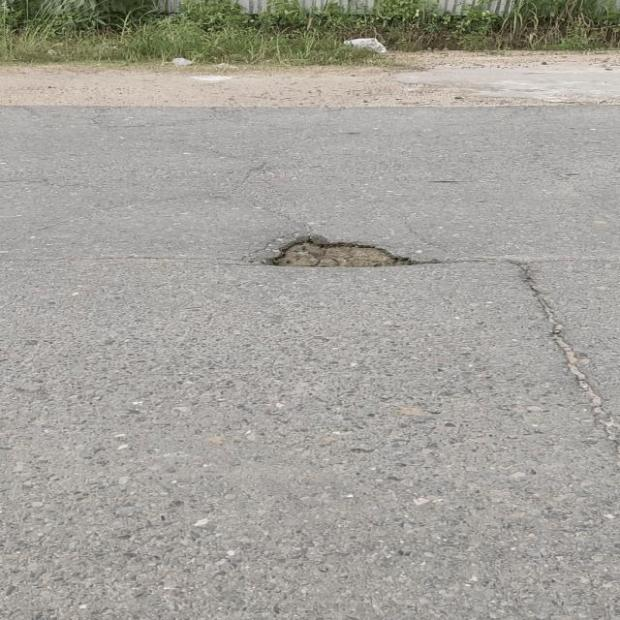lubang: (266, 234, 438, 267)
